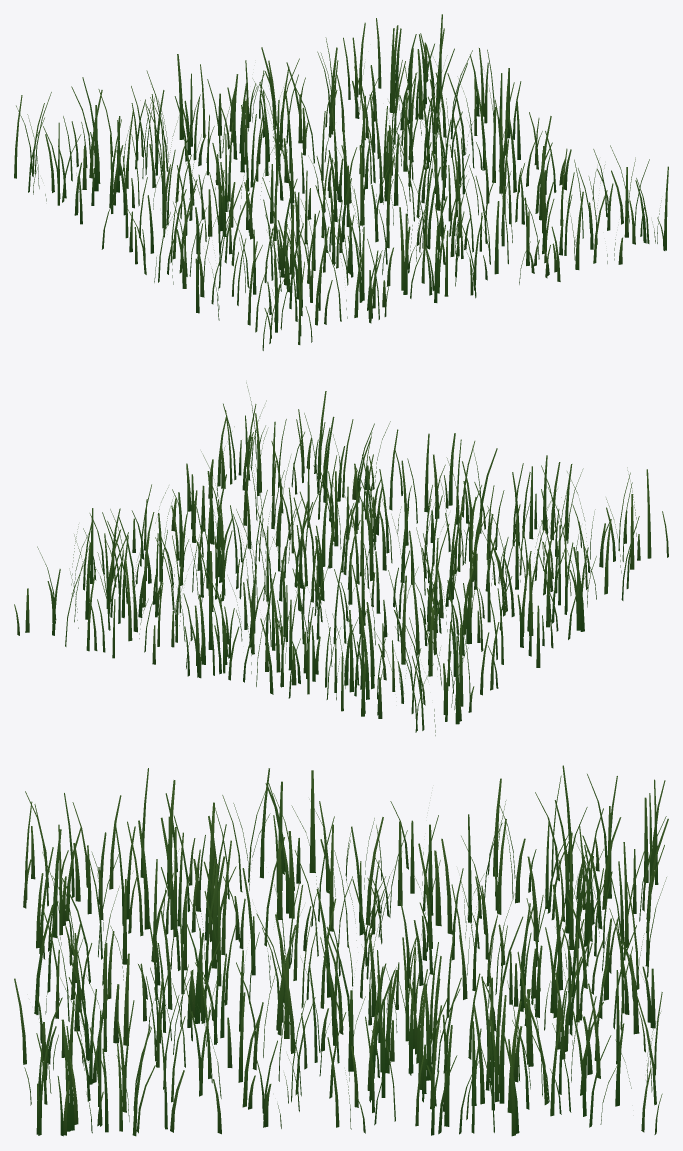
Rendered from Turf_Sedge_v2.glb.
The picture shows the model from 3 angles, top to bottom: view 1: azimuth 30°, elevation 25°; view 2: azimuth 150°, elevation 25°; view 3: azimuth 270°, elevation 25°; orthographic projection. The views are drawn at different scales.
Parts seen in each view (by area): view 1: Turf_Sedge_v2; view 2: Turf_Sedge_v2; view 3: Turf_Sedge_v2.
Boxes of the visible parts, x1,y1,x2,y2 form: Turf_Sedge_v2: (14,14,668,350); Turf_Sedge_v2: (14,382,668,735); Turf_Sedge_v2: (14,765,668,1136).
Bounding box in the file's own units: 1.28 × 0.22 × 1.26.
